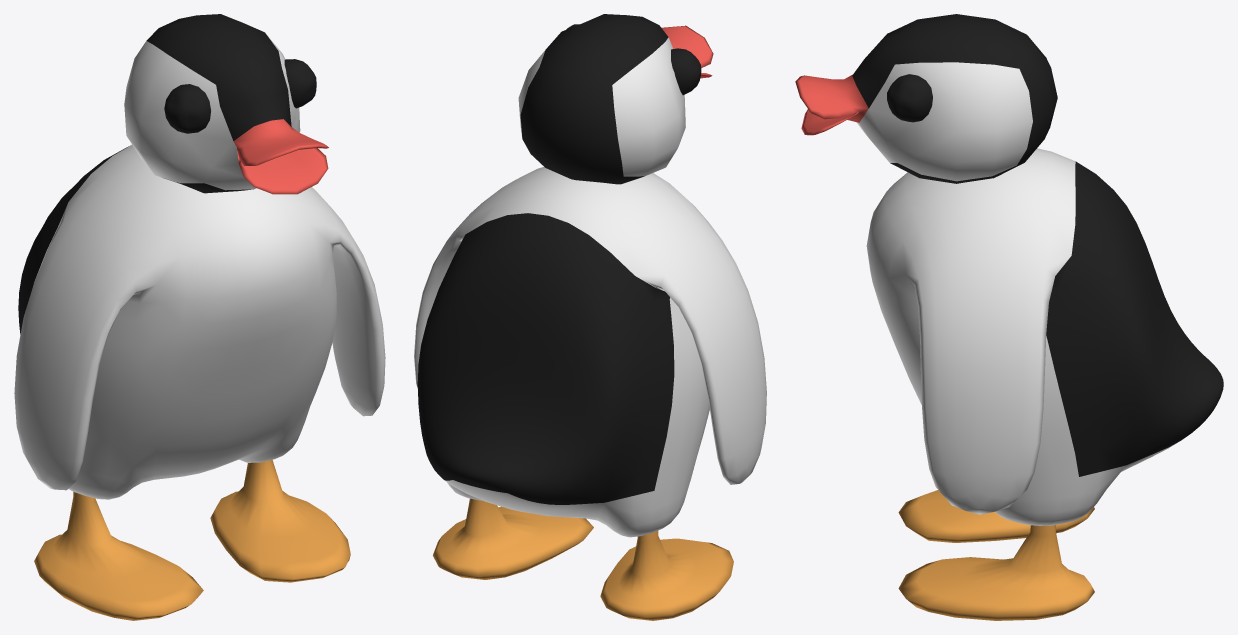
The model's file is pinga.gltf.
The picture shows the model from 3 angles, left to right: view 1: azimuth 30°, elevation 25°; view 2: azimuth 150°, elevation 25°; view 3: azimuth 270°, elevation 25°; orthographic projection. The views are drawn at different scales.
Parts seen in each view (by area): view 1: pinga; view 2: pinga; view 3: pinga.
Boxes of the visible parts, box(x1,y1,x2,y2) form: pinga: box(14, 14, 385, 620); pinga: box(414, 14, 766, 620); pinga: box(795, 14, 1223, 620).
Bounding box in the file's own units: 0.2963 × 0.4753 × 0.3413.
